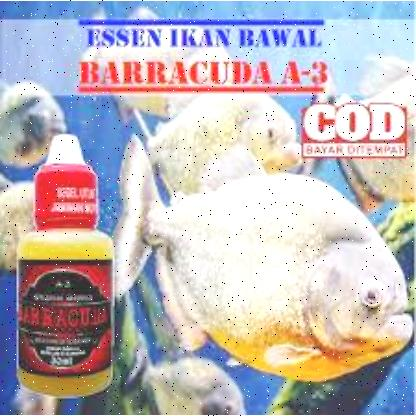ikan-pacu: (110, 165, 410, 376)
